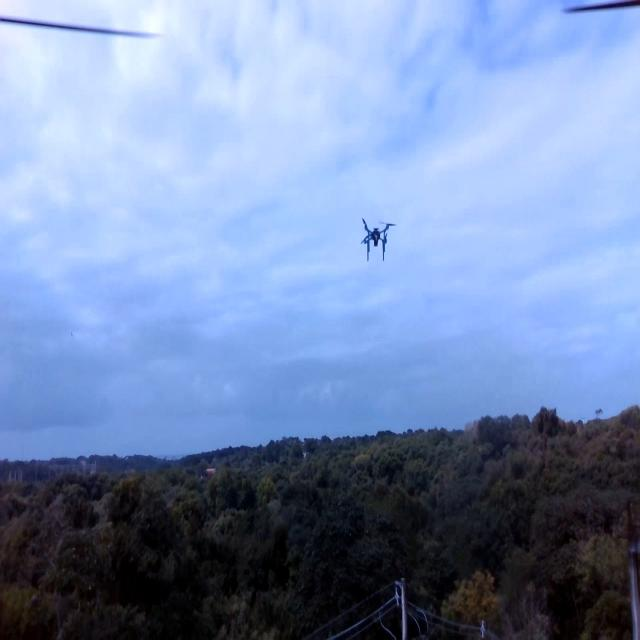-uav-: (347, 195, 411, 288)
